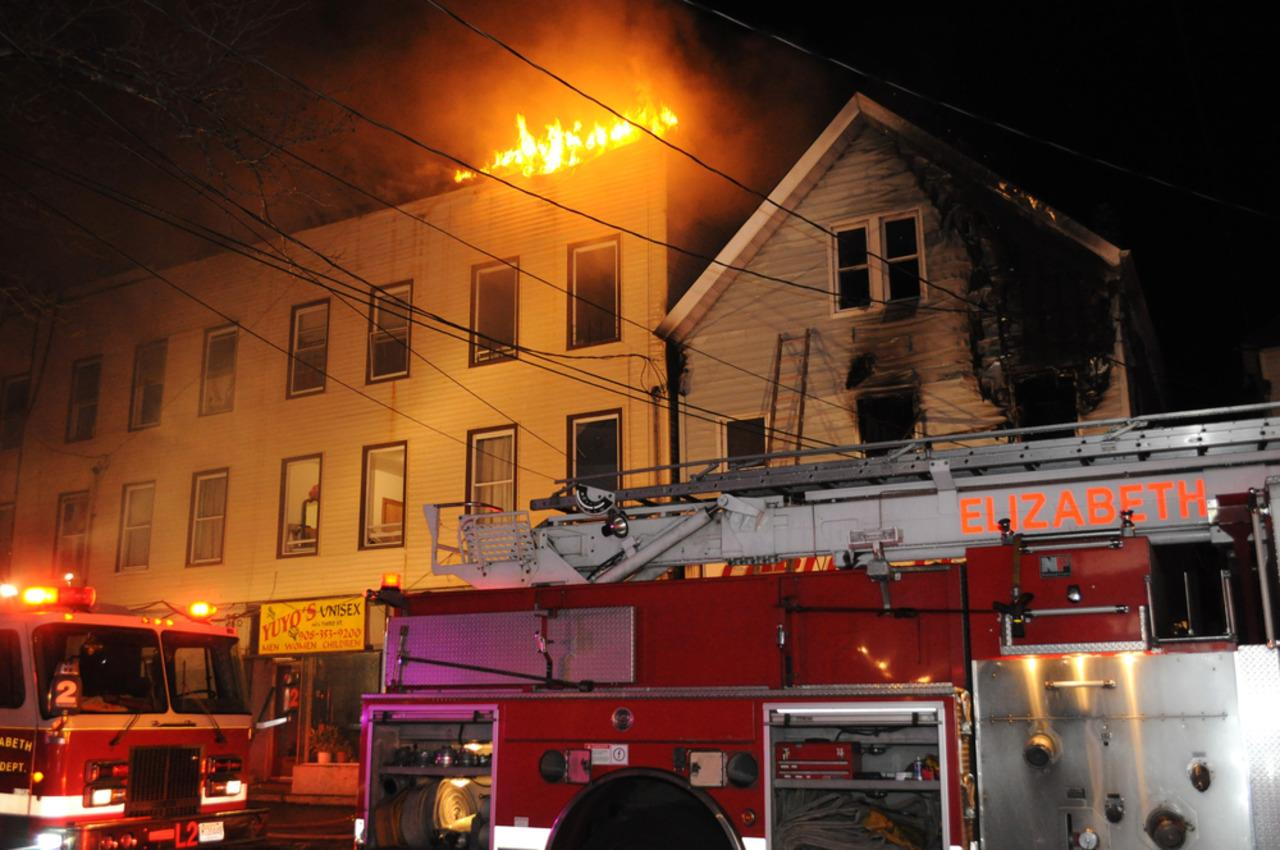Fire: (473, 107, 683, 179)
